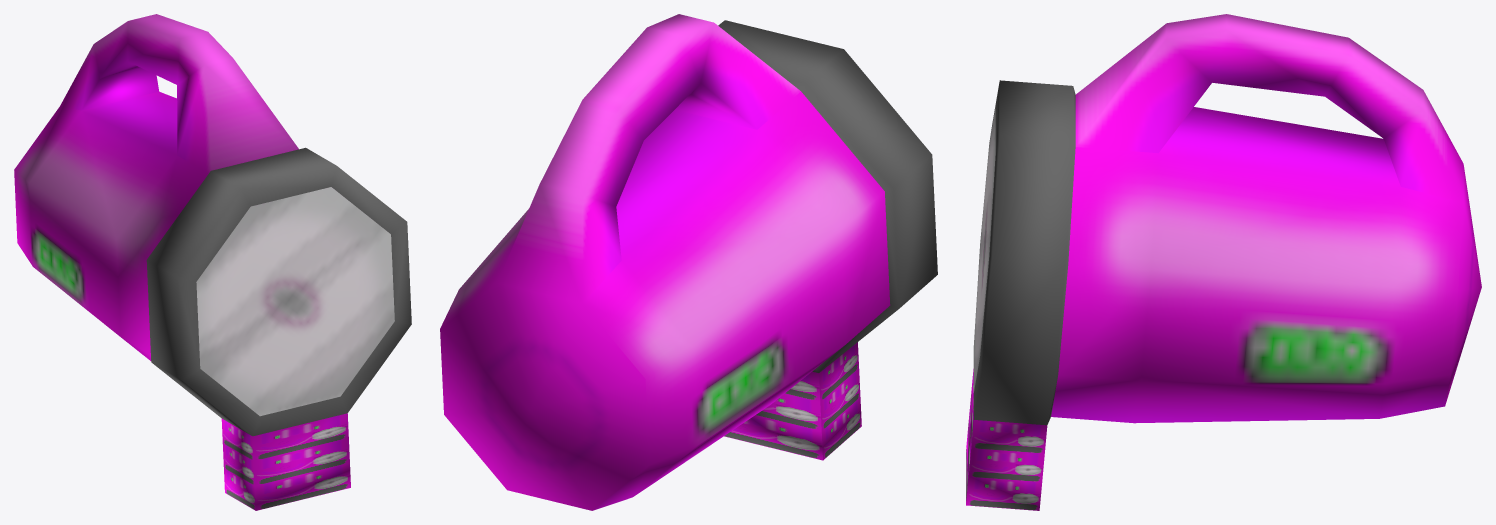
Rendered from ZombieScannerMK2.FBX.
The picture shows the model from 3 angles, left to right: view 1: azimuth 30°, elevation 25°; view 2: azimuth 150°, elevation 25°; view 3: azimuth 270°, elevation 25°; orthographic projection. The views are drawn at different scales.
Parts seen in each view (by area): view 1: FlashLight; view 2: FlashLight; view 3: FlashLight.
Part boxes in pixels (left/top/right/bottom): FlashLight: left=14, top=14, right=411, bottom=510; FlashLight: left=440, top=14, right=937, bottom=510; FlashLight: left=966, top=14, right=1481, bottom=510.
Bounding box in the file's own units: 0.2766 × 0.4472 × 0.4534.
1 material, 1 textured.
